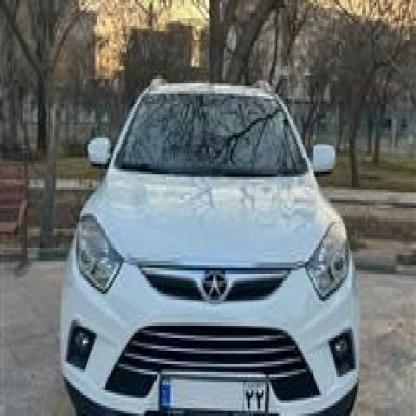Car: (61, 78, 362, 416)
